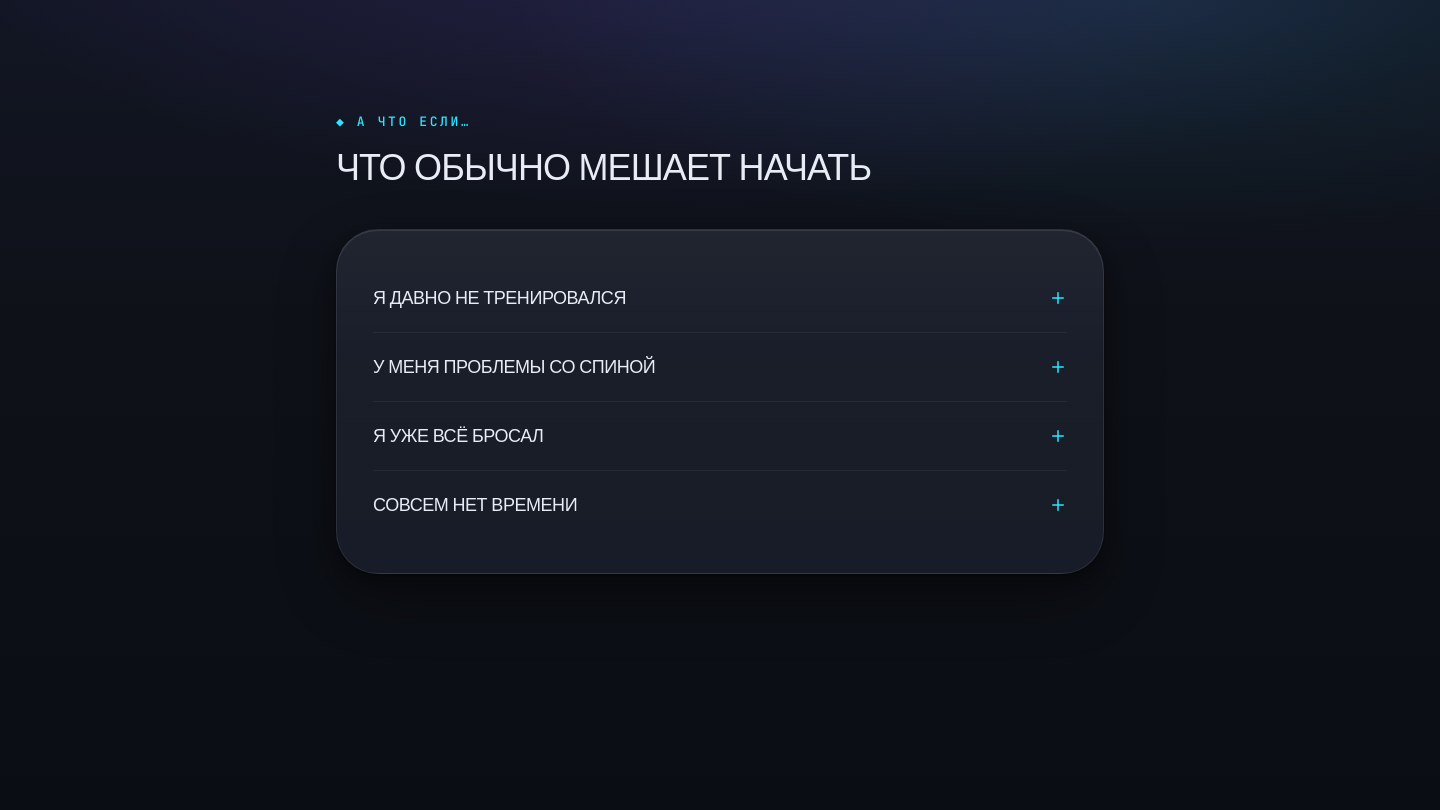
Test: Objections accordion (§15.5) › expands a single item on click
This screenshot has width=1440, height=810.
Click the button "Я давно не тренировался".
click(499, 298)  # box [373,264,1067,332]
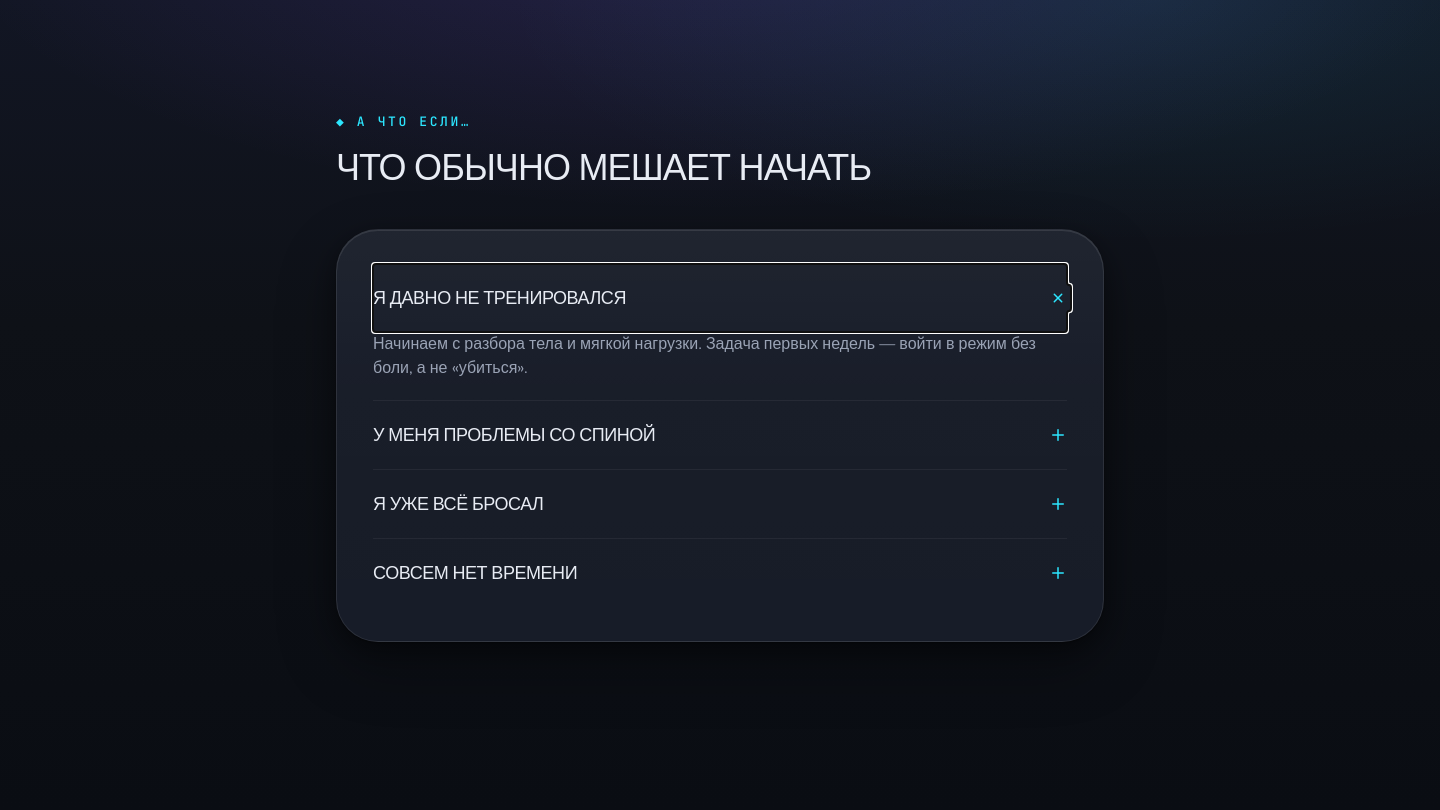
Expected: the button "Я давно не тренировался" is expanded, [373,264,1067,332]
